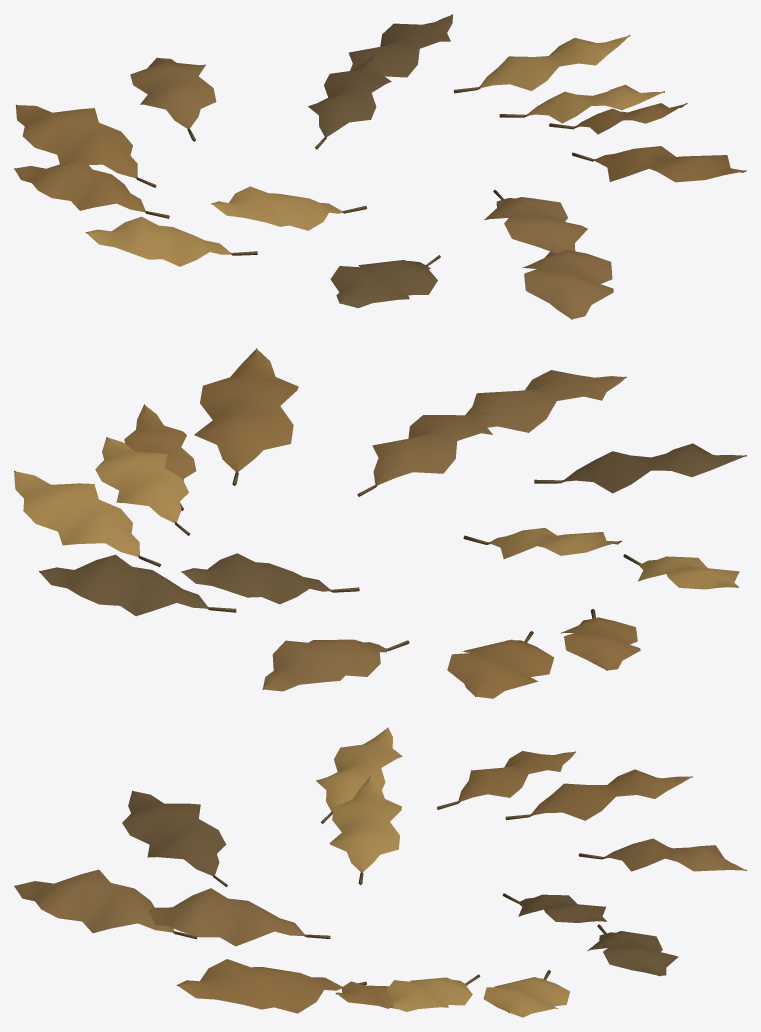
The model's file is meadow_leaf_litter.hi.glb.
3 renders of one model, top to bottom at view 1: azimuth 30°, elevation 25°; view 2: azimuth 150°, elevation 25°; view 3: azimuth 270°, elevation 25°, orthographic. The views are drawn at different scales.
Parts seen in each view (by area): view 1: body; view 2: body; view 3: body.
Part boxes in pixels (x1,y1,x2,y2): body: (14,14,746,319); body: (14,348,746,698); body: (14,727,746,1017).
Bounding box in the file's own units: 0.4173 × 0.0265 × 0.4475.
